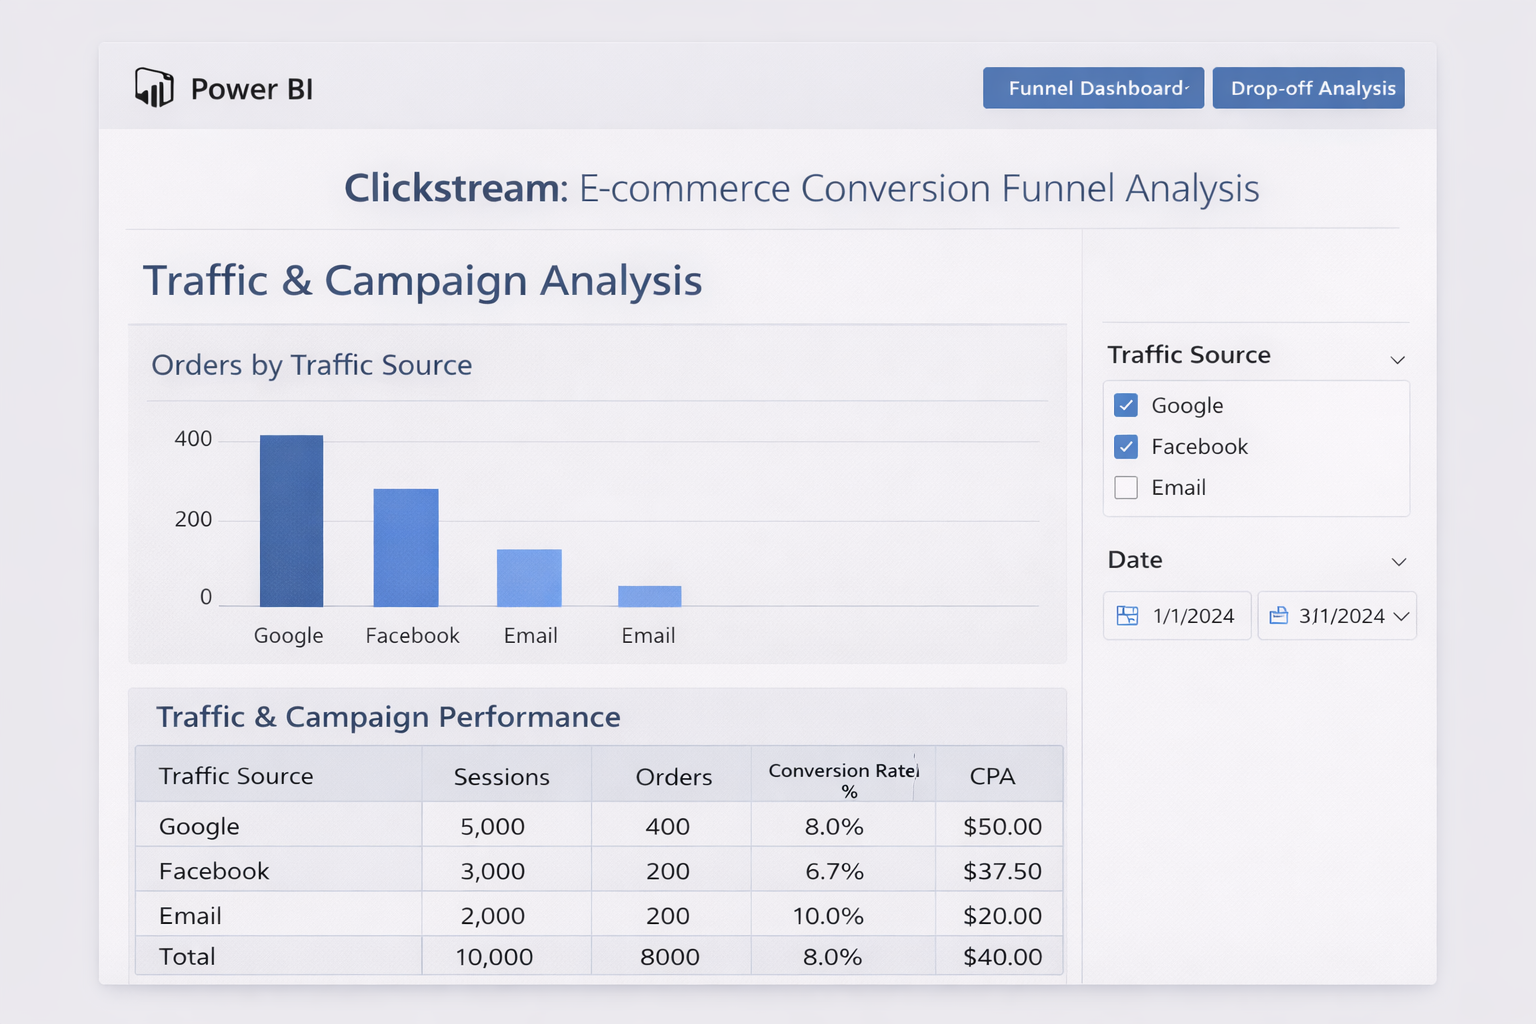

This screenshot's page, from the dashboard's own definition file:
{"tool":"powerbi","page":{"name":"Traffic Analysis","canvas":[1280,720],"ordinal":2},"visuals":[{"type":"clusteredBarChart","fields":{"Category":["webevents.traffic_source"],"Y":["data_table.Orders"]},"box":[95.7,26.9,280.5,280.5],"z":0},{"type":"tableEx","fields":{"Values":["webevents.traffic_source","data_table.Sessions","data_table.Orders","data_table.Conversion Rate %","data_table.CPA"]},"box":[572.8,329.2,403.1,280.5],"z":1},{"type":"actionButton","box":[1179.2,680.3,100.8,40.3],"z":2}]}

Visuals, with their boxes on the page's 1280x720 design canvas (x1, y1, x2, y2). These are canvas units, not pixel positions in the 1536x1024 screenshot, which may show the page scaled, cropped or inside an application window:
clusteredBarChart - webevents.traffic_source x data_table.Orders: bbox=[96, 27, 376, 307]
tableEx - webevents.traffic_source x data_table.Sessions: bbox=[573, 329, 976, 610]
actionButton: bbox=[1179, 680, 1280, 721]
